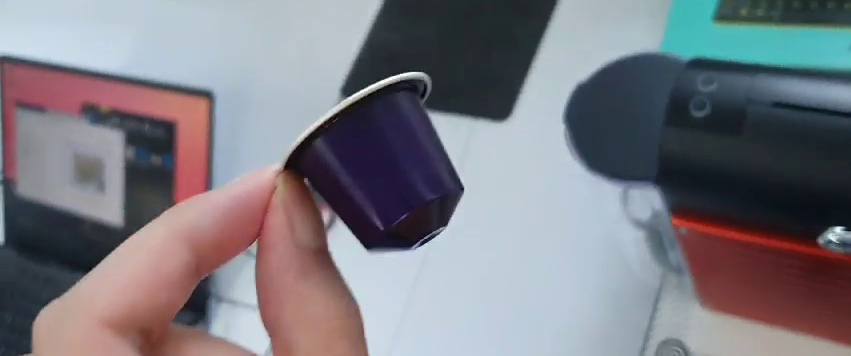capsule_2: (278, 67, 462, 257)
